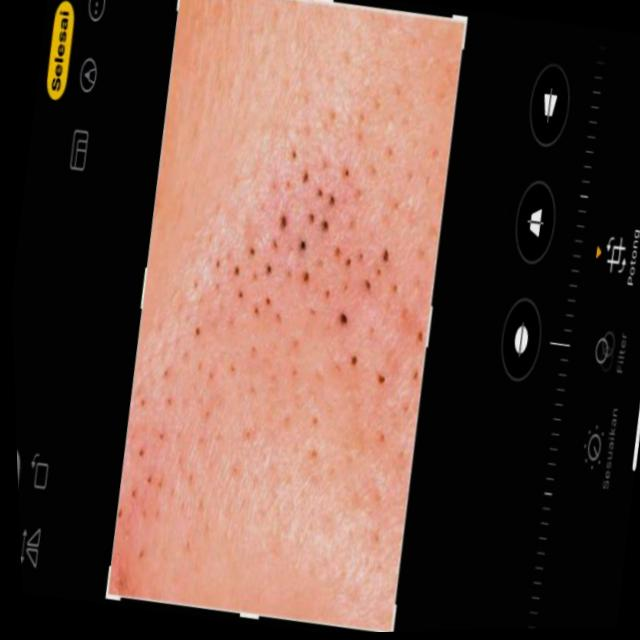blackhead: (198, 101, 424, 469)
